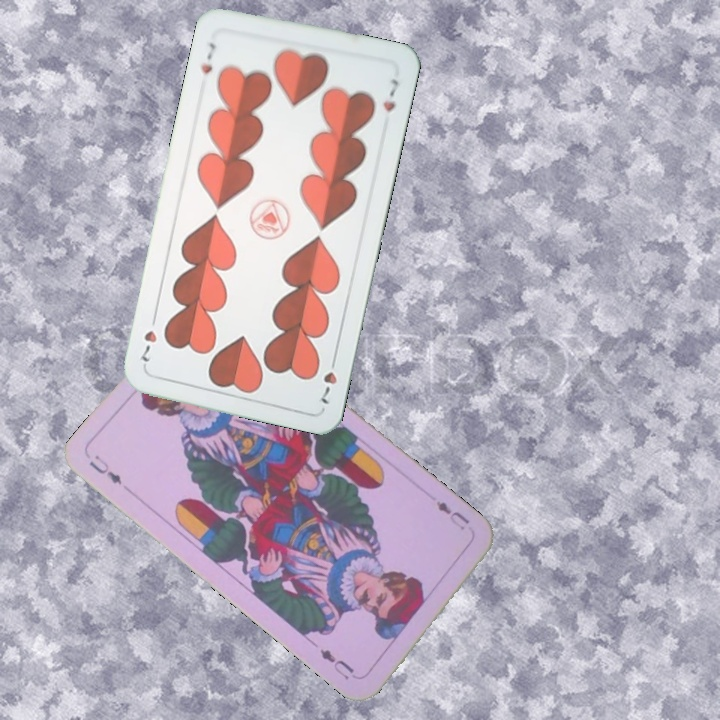EU: (84, 450, 125, 488), (432, 496, 472, 533)
H7: (316, 350, 340, 407), (196, 38, 219, 77)
